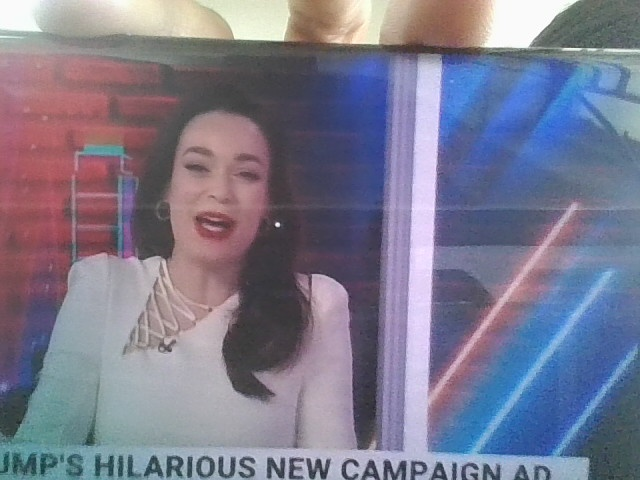fake: (157, 84, 285, 265)
